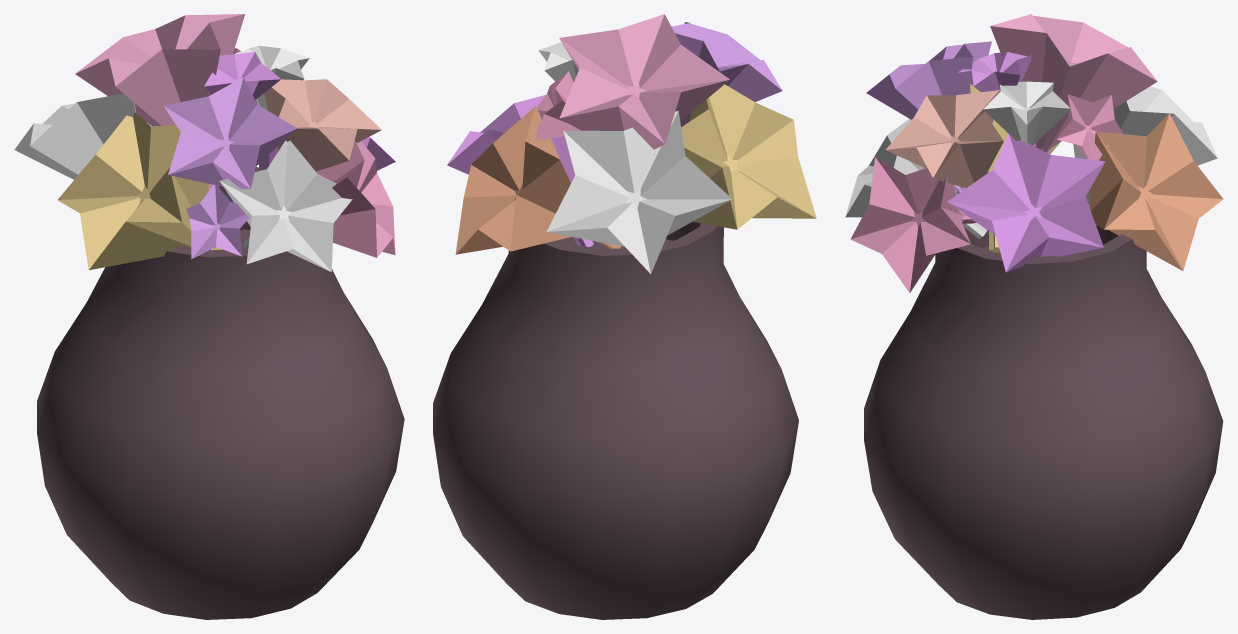
The model's file is flowervase.fbx.
The picture shows the model from 3 angles, left to right: view 1: azimuth 30°, elevation 25°; view 2: azimuth 150°, elevation 25°; view 3: azimuth 270°, elevation 25°; orthographic projection. The views are drawn at different scales.
Visible parts, largest first — view 1: vase, flower3, flower5, flower, flower4, flower6, flower2, flower9, flower4.001, flower8.001, flower.001, flower8; view 2: vase, flower2, flower5, flower3, flower7, flower4, flower8, flower9.001, flower.001; view 3: vase, flower8, flower7, flower5, flower9, flower6, flower4, flower.001, flower2, flower9.001, flower, flower8.001 (+1 smaller).
Part boxes in pixels (x1,y1,x2,y2): vase: [37, 167, 404, 619]; flower3: [57, 112, 222, 269]; flower5: [75, 14, 245, 190]; flower: [219, 140, 352, 271]; flower4: [164, 77, 297, 202]; flower6: [264, 79, 381, 171]; flower2: [14, 93, 151, 179]; flower9: [316, 140, 395, 257]; flower4.001: [186, 184, 249, 259]; flower8.001: [204, 52, 281, 99]; flower.001: [234, 45, 309, 110]; flower8: [258, 136, 395, 170]; vase: [433, 221, 798, 619]; flower2: [546, 110, 732, 273]; flower5: [559, 14, 729, 149]; flower3: [681, 84, 816, 229]; flower7: [455, 106, 620, 254]; flower4: [671, 22, 782, 126]; flower8: [447, 95, 593, 246]; flower9.001: [536, 71, 580, 140]; flower.001: [538, 42, 578, 82]; vase: [864, 188, 1223, 619]; flower8: [947, 134, 1105, 272]; flower7: [1089, 113, 1223, 270]; flower5: [990, 14, 1157, 153]; flower9: [850, 157, 976, 292]; flower6: [885, 90, 1003, 188]; flower4: [866, 41, 991, 119]; flower.001: [983, 81, 1070, 145]; flower2: [1073, 86, 1217, 206]; flower9.001: [1056, 94, 1123, 160]; flower: [845, 119, 987, 238]; flower8.001: [957, 52, 1031, 92].
Size of the model in its own units: 83.24 by 134 by 85.34.
